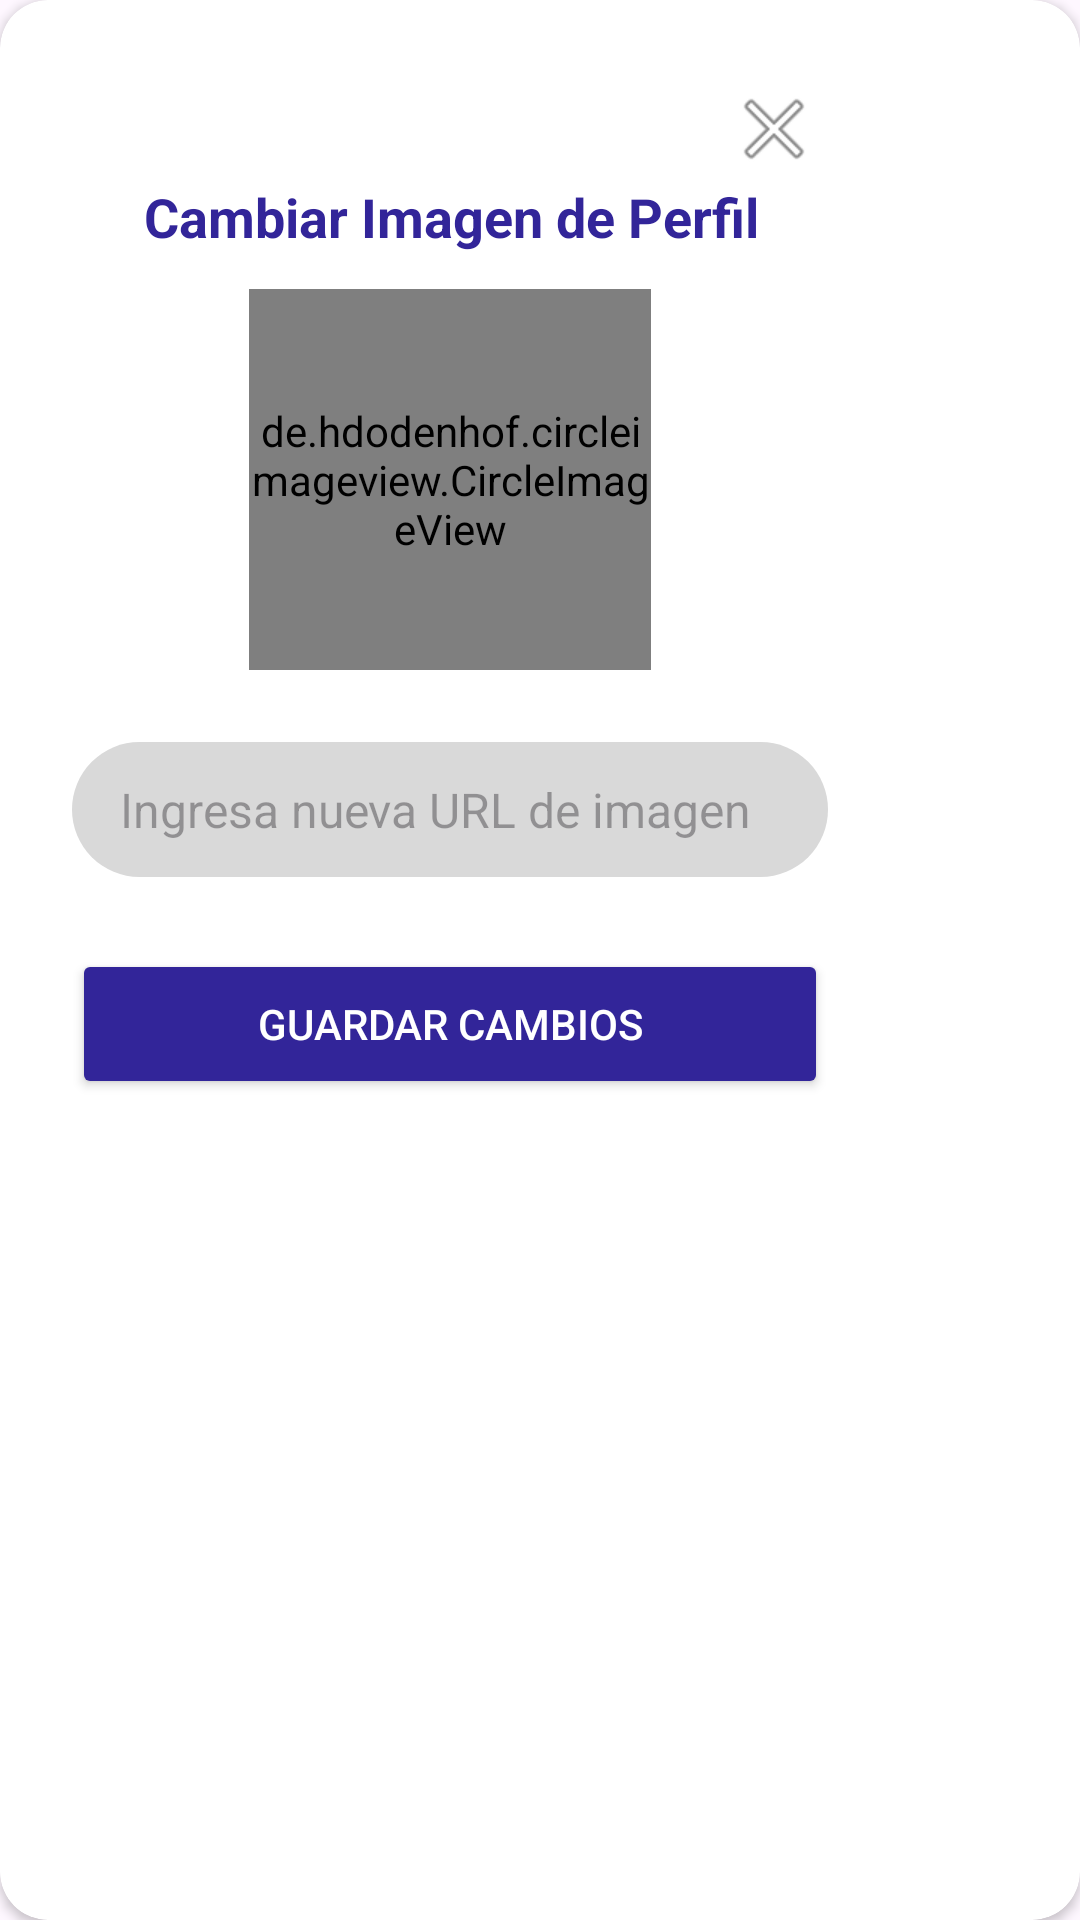

Icon click points for this 1080 x 1920 phone screenshot, format (x=x, y=y):
Cerrar: (x=774, y=129)
